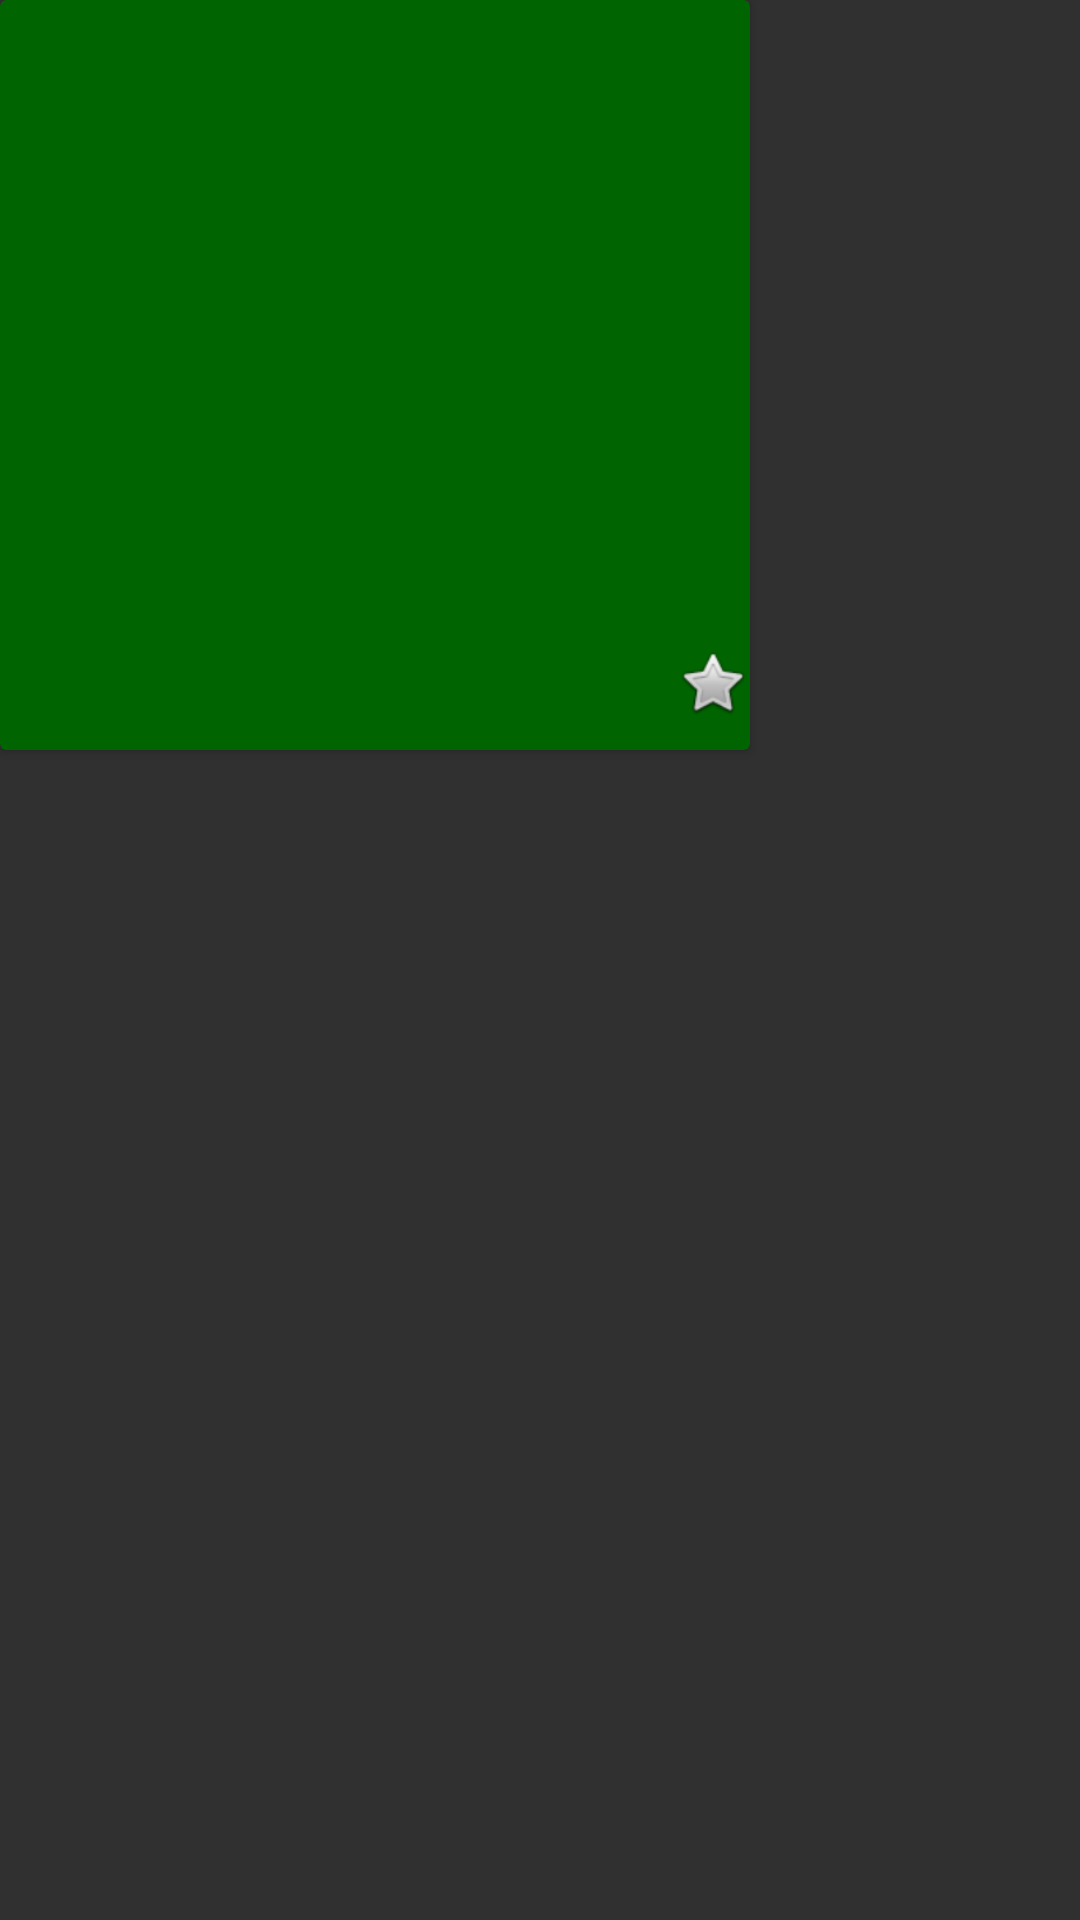

Named icons in this screenshot (1080x1920) and their bounding boxes, (x1, y1, x2, y2):
star: (683, 654, 743, 713)
